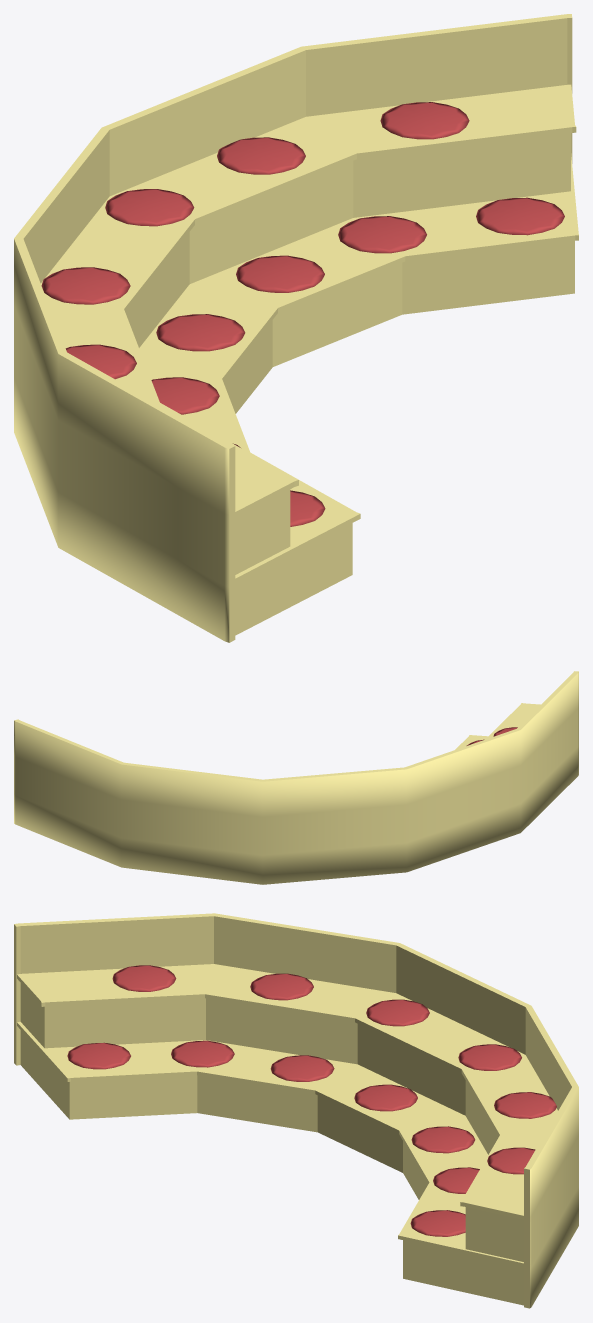
Rendered from RoundChair.fbx.
The picture shows the model from 3 angles, top to bottom: view 1: azimuth 30°, elevation 25°; view 2: azimuth 150°, elevation 25°; view 3: azimuth 270°, elevation 25°; orthographic projection. The views are drawn at different scales.
Visible parts, largest first — view 1: 円.002, 円柱; view 2: 円.002; view 3: 円.002, 円柱.
Part boxes in pixels (box(x1,y1,x2,y2)): 円.002: box(14, 14, 578, 642); 円柱: box(41, 102, 564, 526); 円.002: box(14, 671, 578, 884); 円.002: box(14, 913, 578, 1308); 円柱: box(67, 965, 556, 1236).
Size of the model in its own units: 1133 by 286 by 1055.
